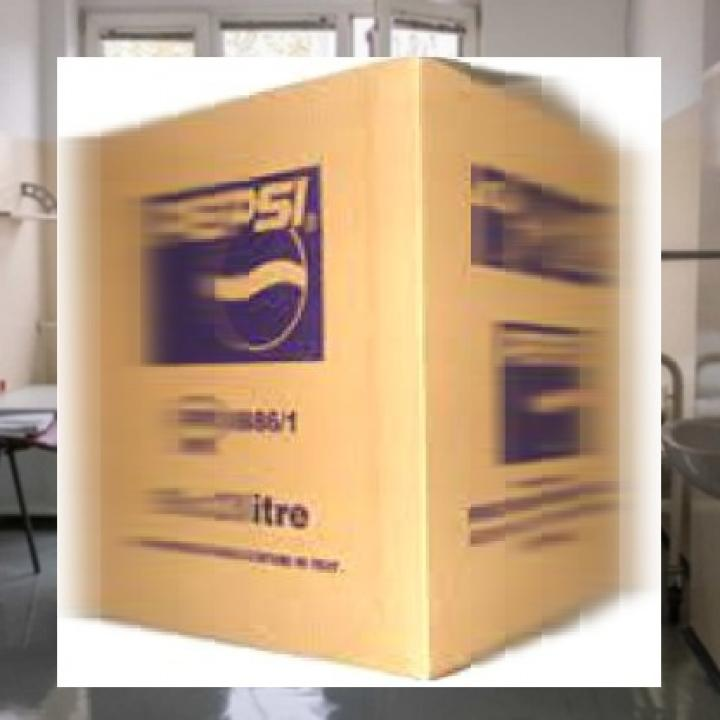box: (48, 49, 672, 698)
